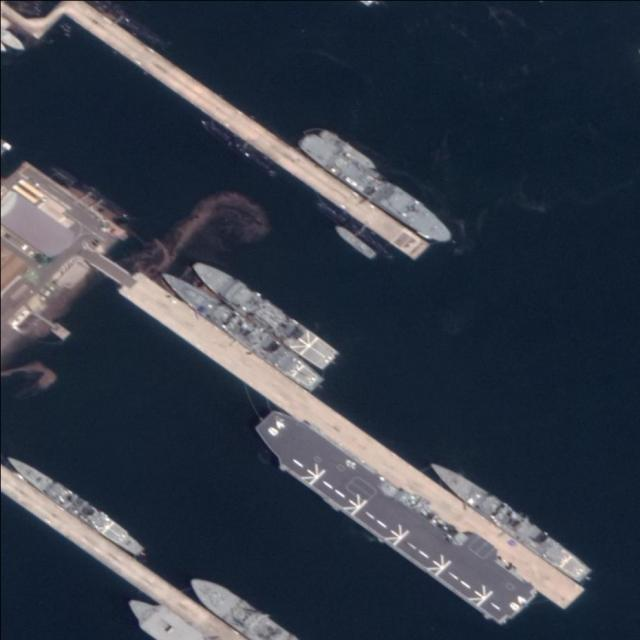Auxiliary Ships: (299, 130, 454, 247)
Destroyer: (246, 404, 537, 634), (423, 454, 594, 588), (156, 263, 329, 395), (186, 253, 342, 373), (1, 453, 150, 560)
Dock: (91, 257, 586, 604), (76, 3, 431, 262)
Other Warship: (319, 127, 380, 173), (332, 222, 377, 262)
Submarine: (200, 117, 279, 178), (313, 198, 393, 258), (50, 165, 130, 220)
